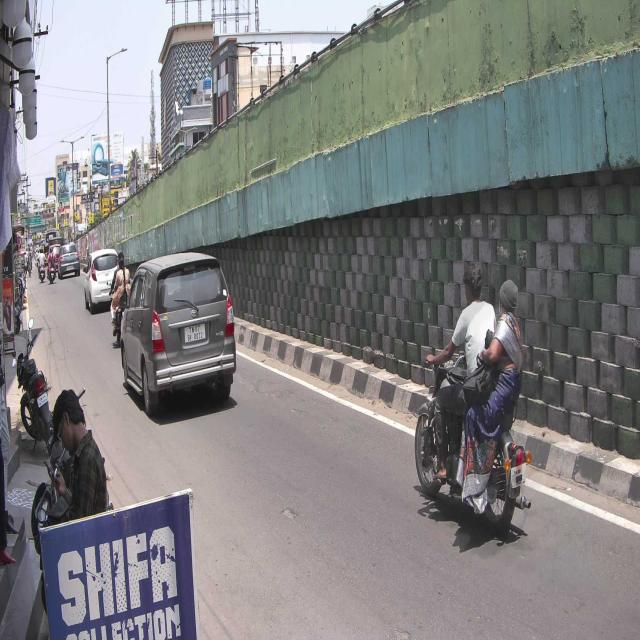double_rider: (415, 257, 532, 532)
